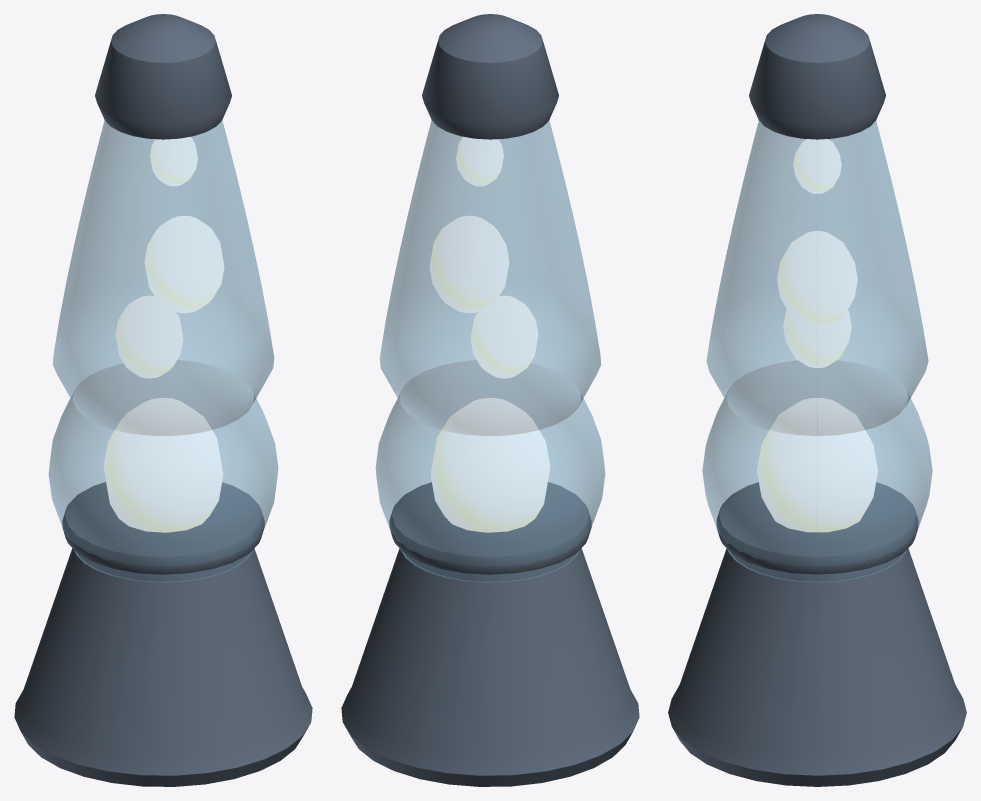
File: luminaria_lava.glb
3 views of the same model, side by side, from view 1: azimuth 30°, elevation 25°; view 2: azimuth 150°, elevation 25°; view 3: azimuth 270°, elevation 25° (orthographic).
Parts seen in each view (by area): view 1: luminaria_lava; view 2: luminaria_lava; view 3: luminaria_lava.
Boxes of the visible parts, x1,y1,x2,y2 form: luminaria_lava: (14, 14, 312, 786); luminaria_lava: (341, 14, 639, 786); luminaria_lava: (668, 14, 966, 786).
Size of the model in its own units: 0.148 by 0.385 by 0.148.
3 materials, 1 textured.
